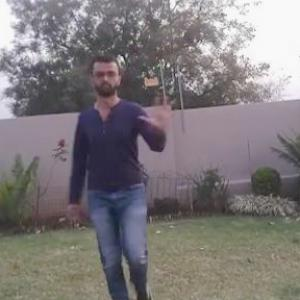follow_hand: (139, 94, 177, 131)
